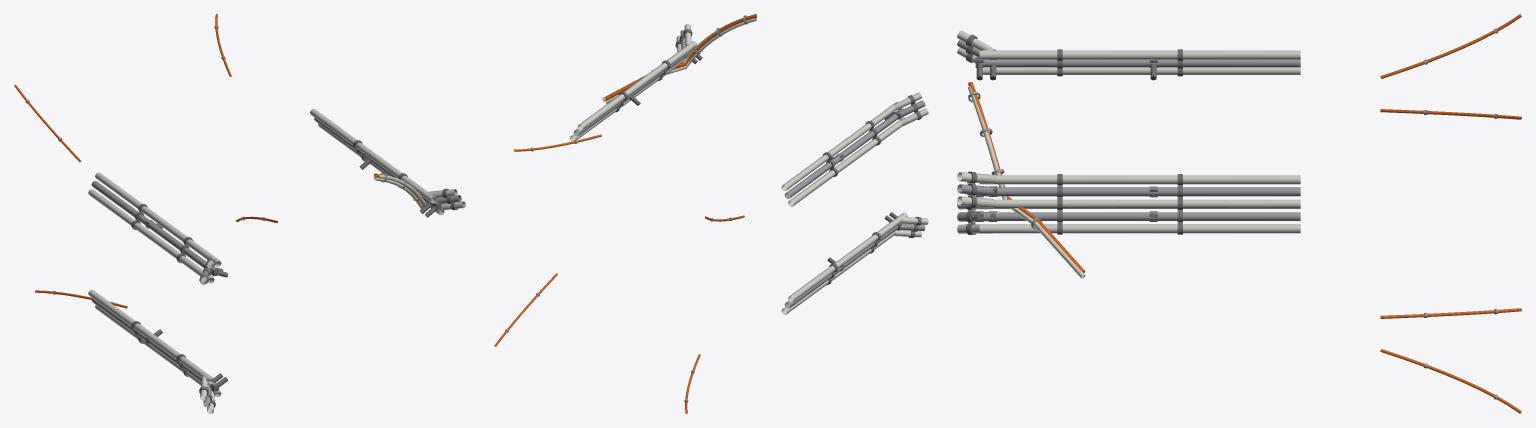
File: u65m_pipes.obj
The picture shows the model from 3 angles, left to right: view 1: azimuth 30°, elevation 25°; view 2: azimuth 150°, elevation 25°; view 3: azimuth 270°, elevation 25°; orthographic projection. The views are drawn at different scales.
Parts seen in each view (by area): view 1: u65m_pipes; view 2: u65m_pipes; view 3: u65m_pipes.
Boxes of the visible parts, bbox=[...] form: u65m_pipes: bbox=[14, 14, 465, 413]; u65m_pipes: bbox=[494, 14, 928, 413]; u65m_pipes: bbox=[957, 14, 1521, 413].
Size of the model in its own units: 3.44 by 2.61 by 4.23.
